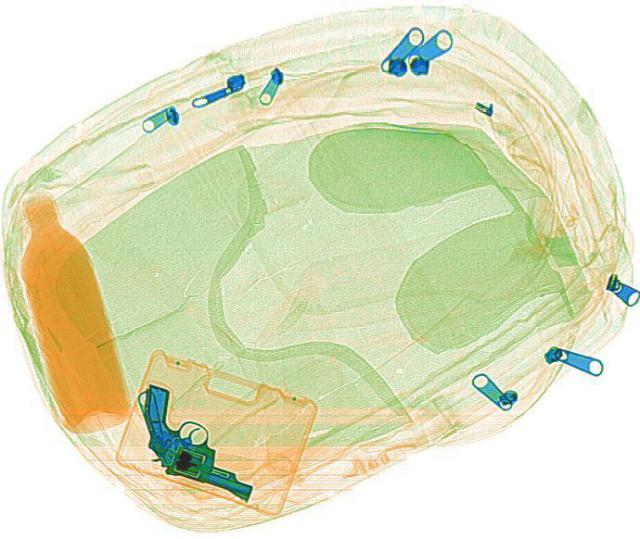Gun: (94, 376, 276, 522)
